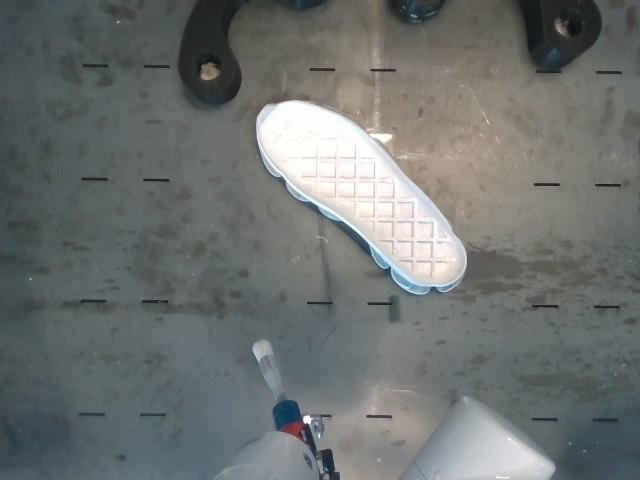shoes: (258, 102, 465, 285)
